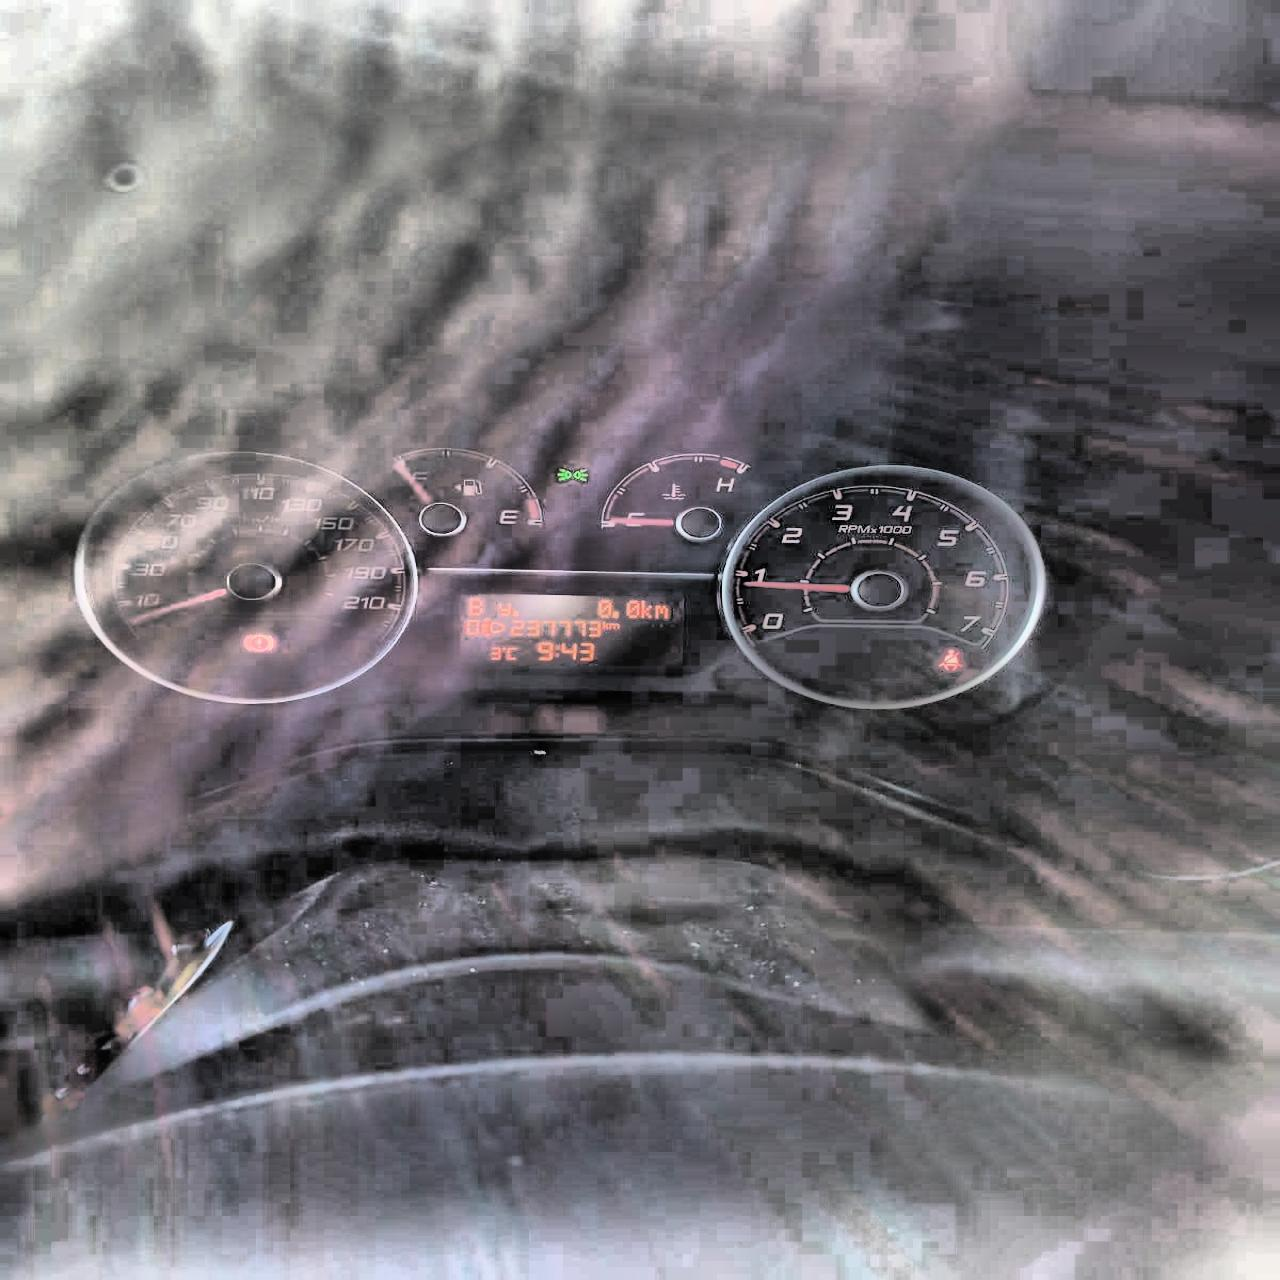-: (611, 611, 619, 618), (511, 610, 518, 617)
0: (625, 599, 639, 618), (598, 599, 612, 618), (464, 619, 479, 634)
2: (509, 619, 523, 635)
3: (577, 642, 593, 661), (586, 620, 600, 636), (526, 619, 539, 636), (489, 647, 501, 660)
4: (560, 641, 576, 659)
7: (572, 620, 586, 636), (542, 619, 554, 635), (558, 620, 570, 635)
9: (537, 641, 552, 660)
X: (467, 598, 482, 615), (497, 601, 511, 617), (653, 604, 668, 618), (640, 600, 651, 618), (505, 646, 516, 660), (601, 620, 608, 629), (554, 645, 559, 658), (610, 622, 619, 628)
odometer: (450, 591, 687, 669)
